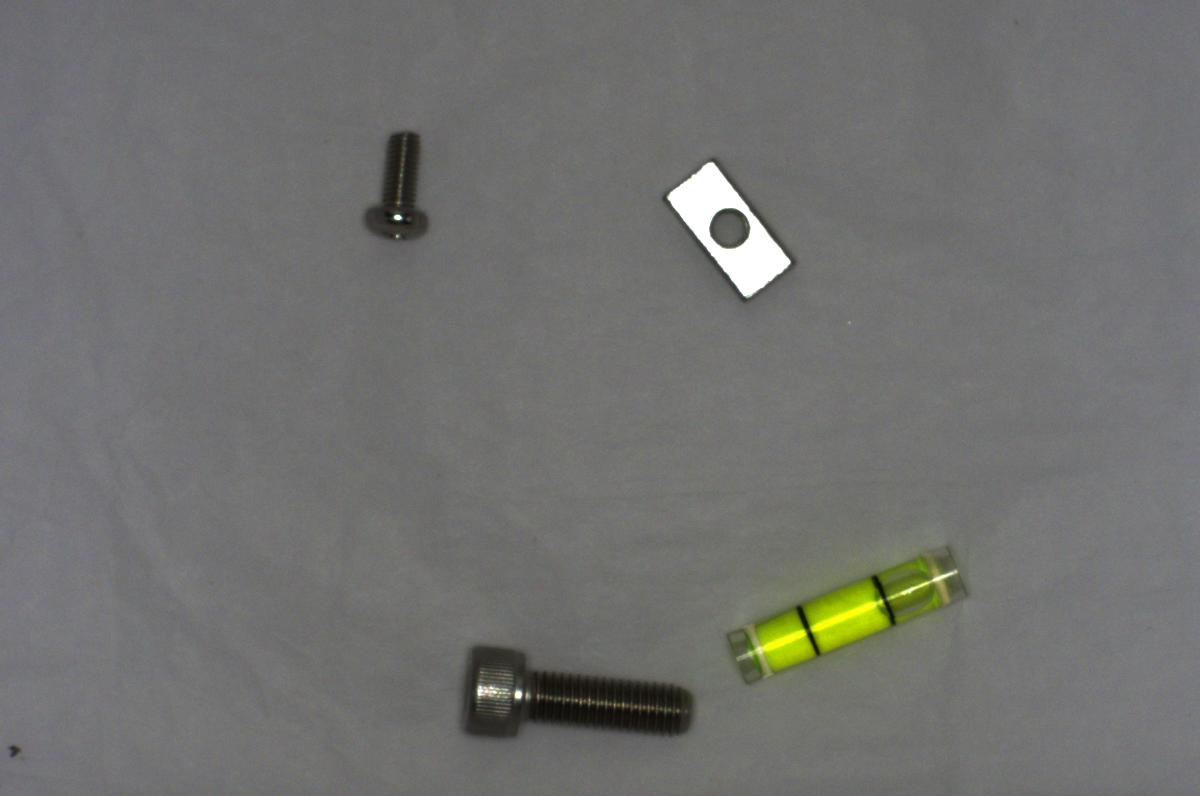Hexagon screw: (440, 629, 695, 766)
Horizontal bubble: (717, 536, 978, 700)
Rectangular nut: (664, 149, 794, 305)
Round head screw: (361, 126, 434, 247)
